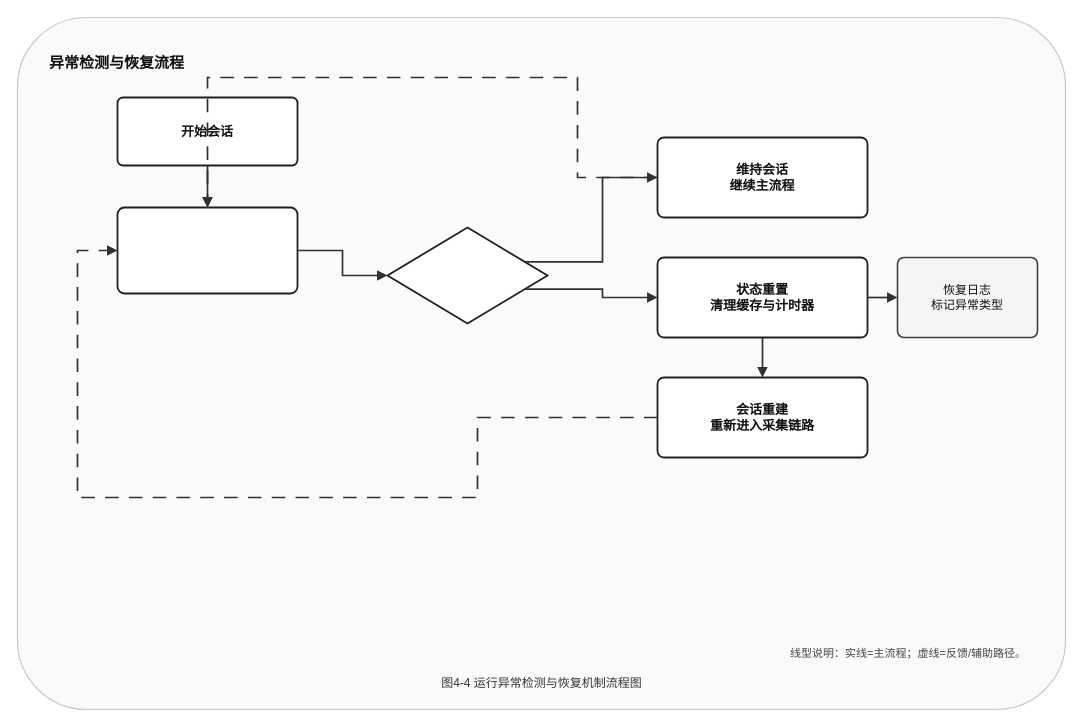
Image size: 1084x728. Some labels were removed from this diagram. Each missing label, with the box of its shape:
是否异常？: (386, 226, 548, 324)
监控窗口指标 conf / fps / event_gap: (116, 206, 298, 294)
